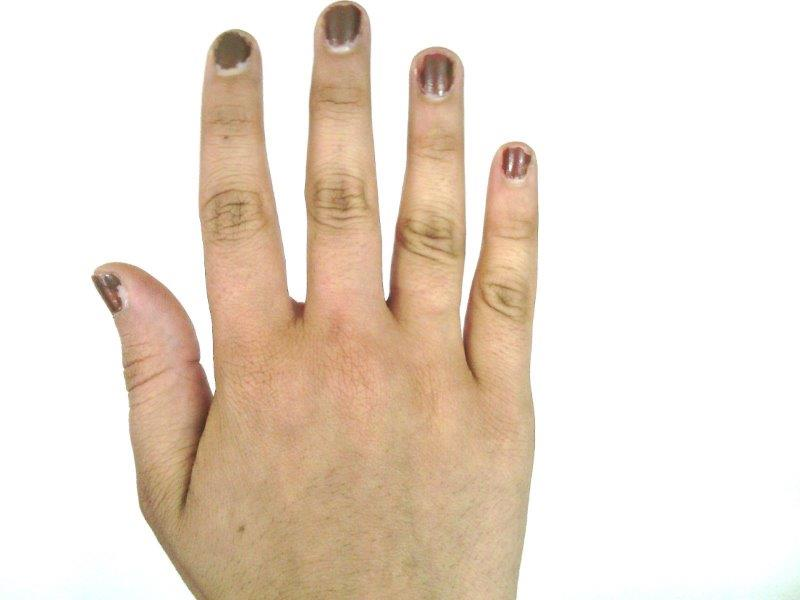hand: (92, 2, 539, 596)
